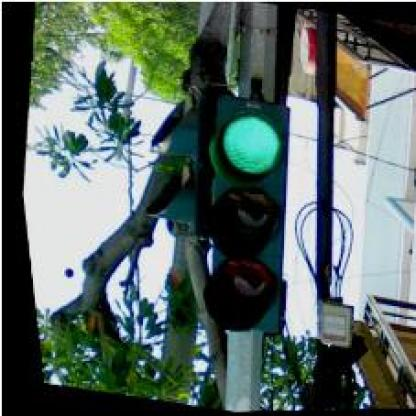green: (167, 91, 312, 338)
